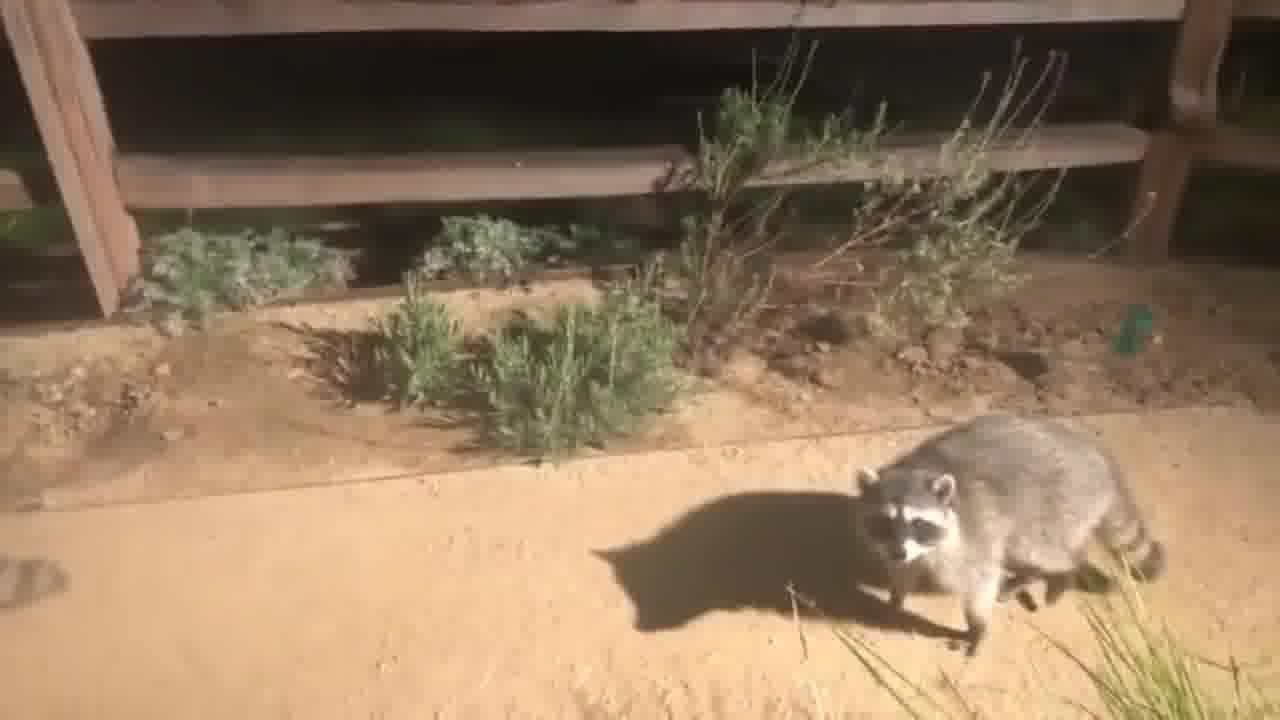raccoon: (854, 413, 1173, 663), (0, 545, 86, 620)
